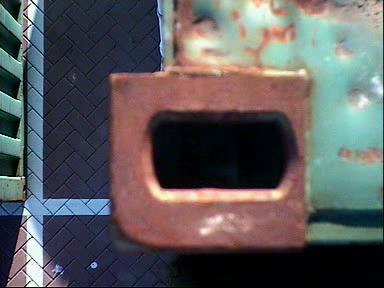groundmarker_2: (69, 155, 140, 205)
